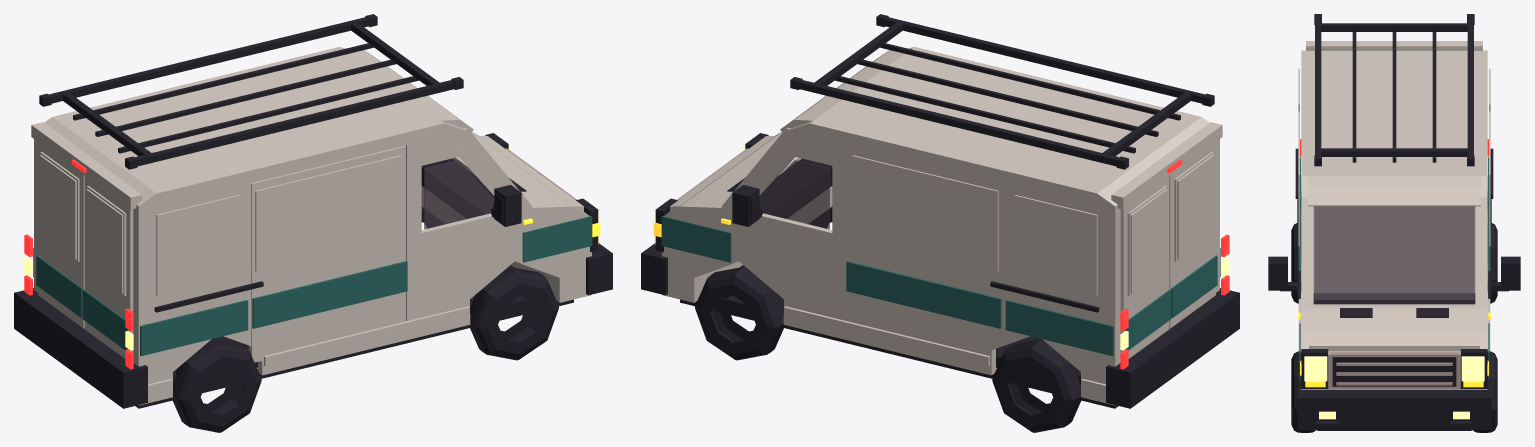
Rendered from veh.courier-van.lod2.glb.
The picture shows the model from 3 angles, left to right: view 1: azimuth 30°, elevation 25°; view 2: azimuth 150°, elevation 25°; view 3: azimuth 270°, elevation 25°; orthographic projection. The views are drawn at different scales.
Parts seen in each view (by area): view 1: object 8, body, wheelFL, wheelRL, lightsBrake; view 2: body, object 8, wheelFR, wheelRR, lightsBrake; view 3: body, object 8, lightsFront, wheelFL, wheelFR, wheelRL, wheelRR.
Part boxes in pixels (<box>): object 8: <box>14,14,612,408</box>; body: <box>31,47,591,405</box>; wheelFL: <box>468,266,558,360</box>; wheelRL: <box>171,339,261,432</box>; lightsBrake: <box>24,234,133,369</box>; body: <box>662,47,1222,405</box>; object 8: <box>641,14,1239,408</box>; wheelFR: <box>695,266,785,360</box>; wheelRR: <box>992,339,1082,432</box>; lightsBrake: <box>1120,234,1229,369</box>; body: <box>1298,41,1490,389</box>; object 8: <box>1268,14,1520,430</box>; lightsFront: <box>1304,356,1484,381</box>; wheelFL: <box>1291,351,1316,432</box>; wheelFR: <box>1472,351,1497,432</box>; wheelRL: <box>1291,222,1298,303</box>; wheelRR: <box>1490,222,1497,303</box>.
Size of the model in its own units: 5.4 by 3 by 2.71.
